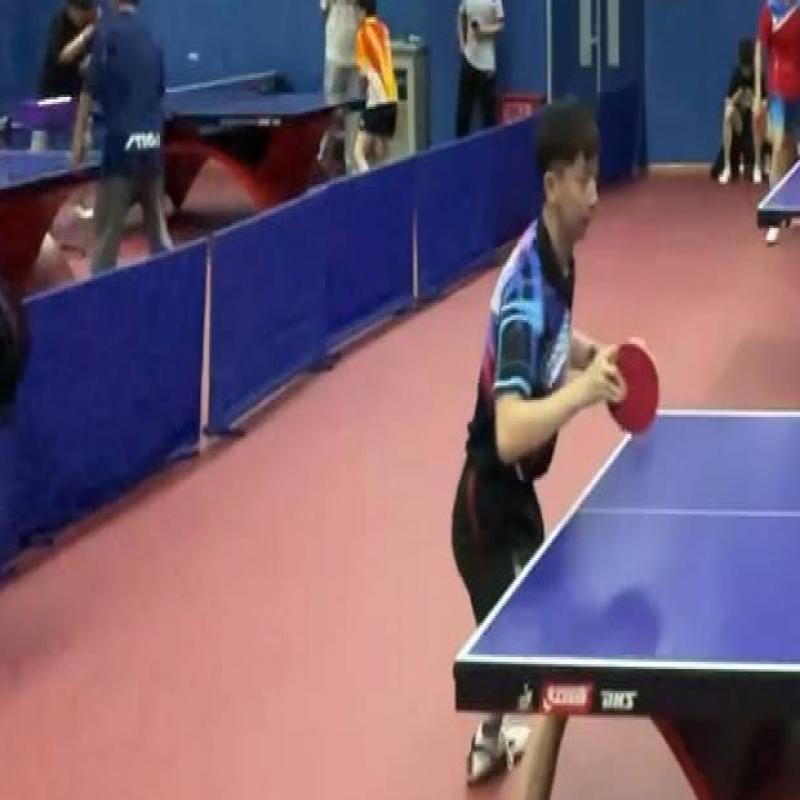bats: (598, 325, 670, 446)
